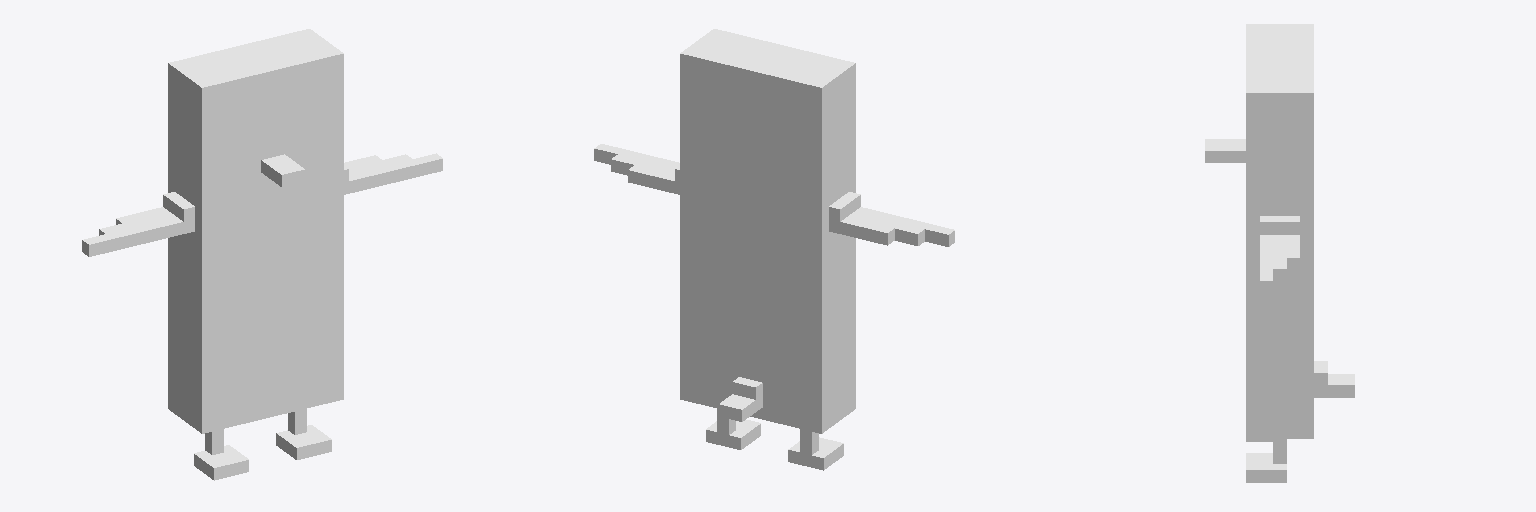
File: pinguino.obj
3 renders of one model, left to right at view 1: azimuth 30°, elevation 25°; view 2: azimuth 150°, elevation 25°; view 3: azimuth 270°, elevation 25°, orthographic.
Size of the model in its own units: 30 by 32 by 11.